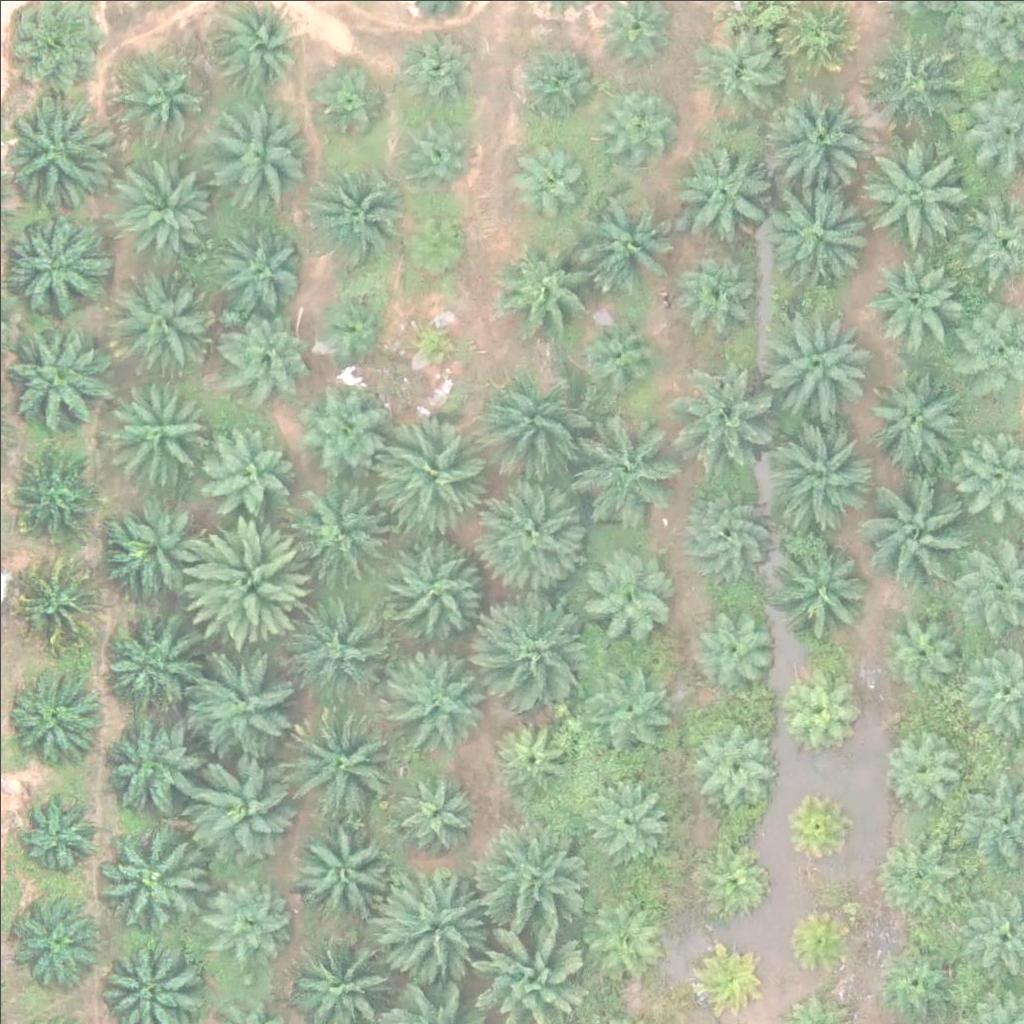Kelapa_Sawit: (179, 517, 304, 643), (189, 651, 302, 765), (765, 308, 878, 422), (287, 704, 400, 817), (283, 592, 396, 705), (376, 537, 489, 650), (479, 476, 592, 589), (760, 82, 873, 195), (768, 178, 881, 291), (95, 821, 208, 934), (472, 819, 585, 932), (182, 746, 295, 859), (480, 373, 592, 487), (763, 412, 875, 526), (861, 135, 973, 249), (384, 636, 496, 749), (379, 419, 491, 532), (482, 585, 594, 698), (669, 368, 781, 481), (865, 474, 977, 587), (377, 872, 489, 985), (2, 671, 102, 772), (95, 612, 195, 713), (109, 375, 209, 476), (114, 263, 214, 364), (118, 155, 218, 256), (292, 483, 392, 584), (290, 382, 390, 483), (498, 234, 598, 335), (584, 185, 684, 286), (584, 413, 684, 514), (674, 137, 774, 238), (771, 537, 871, 638), (868, 369, 968, 470), (866, 32, 966, 133), (289, 819, 389, 920), (299, 168, 399, 269), (100, 706, 200, 806), (110, 506, 210, 606), (207, 104, 307, 204), (577, 548, 677, 648), (679, 480, 779, 580), (5, 886, 105, 986), (15, 560, 103, 648), (222, 308, 310, 396), (397, 25, 485, 113), (489, 711, 577, 799), (575, 309, 663, 397), (694, 718, 782, 806), (868, 249, 956, 337), (872, 820, 960, 908), (16, 791, 104, 879), (389, 766, 477, 854), (581, 887, 669, 975), (220, 220, 307, 309), (590, 660, 677, 749), (13, 452, 100, 540), (113, 50, 200, 138), (211, 1, 298, 89), (205, 428, 292, 516), (388, 106, 475, 194), (693, 602, 780, 690), (671, 240, 758, 328), (694, 20, 781, 108), (877, 722, 964, 810), (880, 598, 967, 686), (199, 872, 286, 960), (583, 778, 670, 866), (700, 844, 775, 920), (517, 135, 592, 211), (515, 47, 590, 123), (316, 287, 391, 363), (397, 200, 472, 276), (783, 664, 858, 740), (778, 791, 853, 867), (685, 940, 760, 1016), (309, 66, 384, 141), (597, 81, 672, 156), (783, 902, 858, 977), (403, 312, 465, 375)
